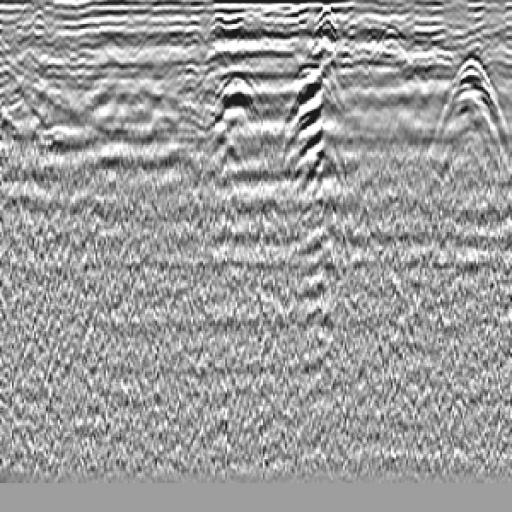metalic: (276, 11, 373, 315)
nonmetalic: (414, 42, 512, 186), (169, 34, 268, 161)
